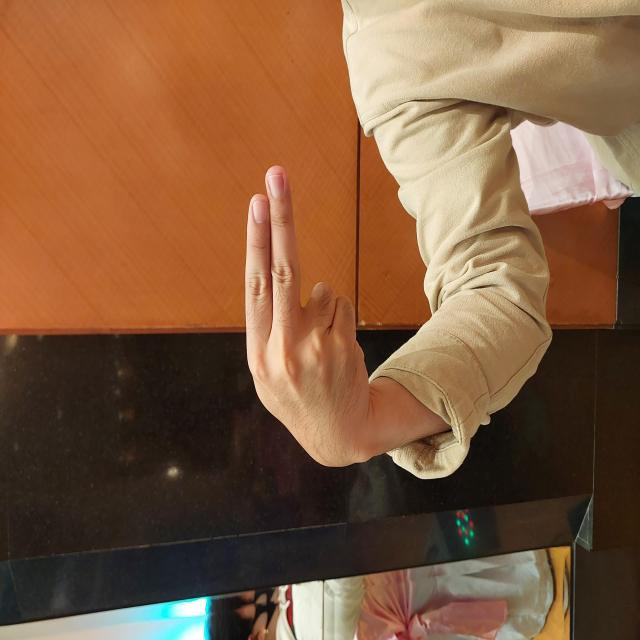H: (170, 244, 476, 370)
